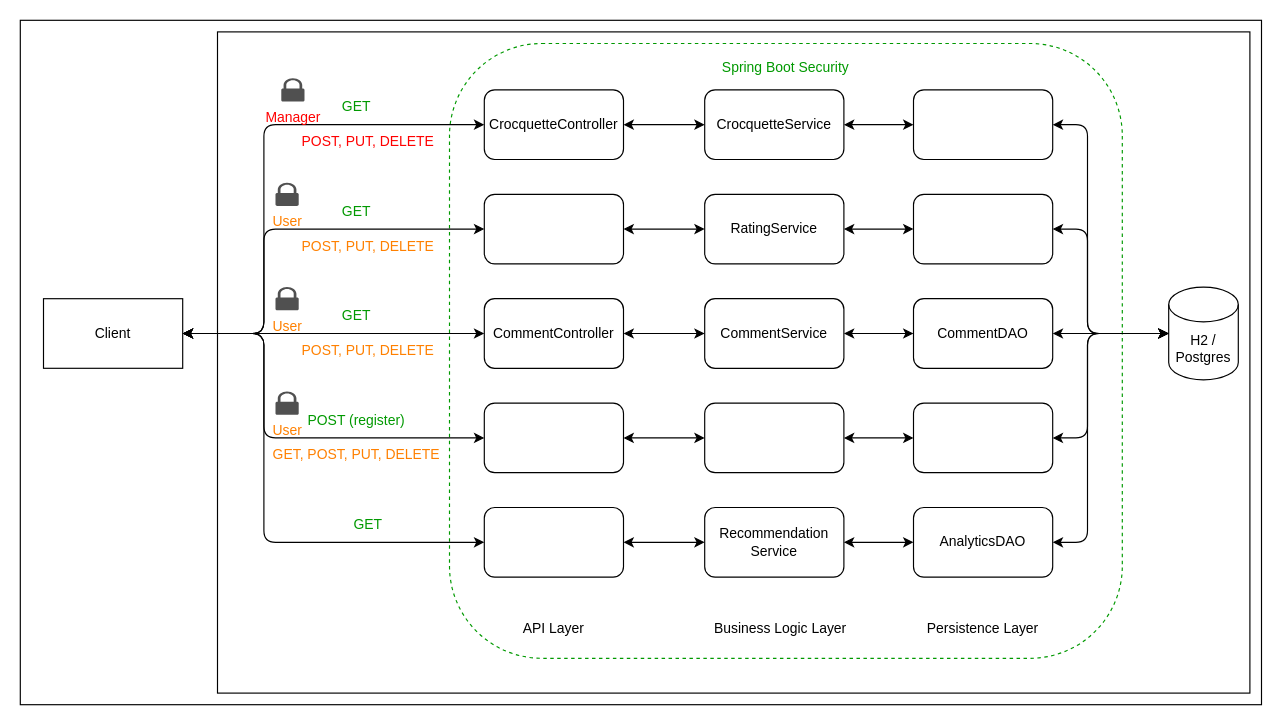
Image size: 1282x725. Some labels were removed from this diagram. Each missing label, with the centre of its shape:
CrocquetteDAO: the point at 982,124
RatingController: the point at 553,228
RatingDAO: the point at 982,228
Recommendation Controller: the point at 553,541
UserController: the point at 553,437
UserDAO: the point at 982,437
UserService: the point at 774,437
